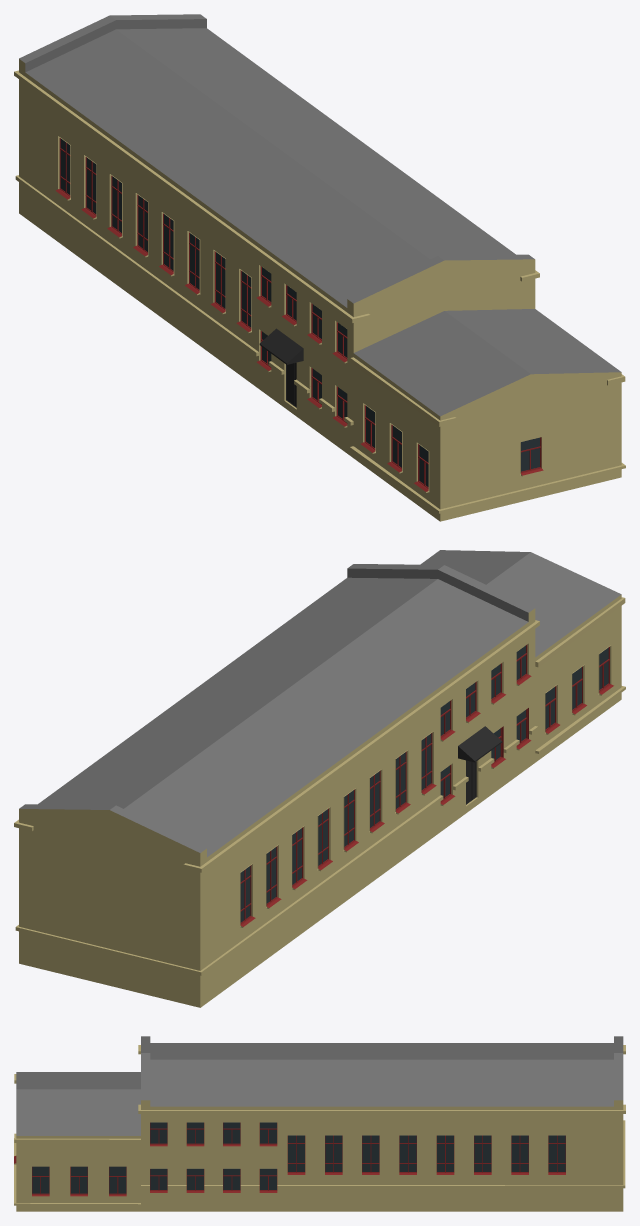
File: UFP.glb
3 renders of one model, top to bottom at view 1: azimuth 30°, elevation 25°; view 2: azimuth 150°, elevation 25°; view 3: azimuth 270°, elevation 25°, orthographic. The views are drawn at different scales.
Parts seen in each view (by area): view 1: УФП, УФП_Окно_2х3, УФП_Окно_2х3.002, УФП_Окно_2х3.001, Plane.009, УФП_Окно_2х3.006, УФП_Окно_2х3.008; view 2: УФП, УФП_Окно_2х3, УФП_Окно_2х3.001, УФП_Окно_2х3.002, Plane.009, УФП_Окно_2х3.006; view 3: УФП, УФП_Окно_2х3.003, УФП_Окно_2х3.004, УФП_Окно_2х3.005.
Boxes of the visible parts, x1,y1,x2,y2 form: УФП: [14, 14, 625, 521]; УФП_Окно_2х3: [55, 136, 251, 332]; УФП_Окно_2х3.002: [360, 403, 429, 492]; УФП_Окно_2х3.001: [256, 266, 347, 363]; Plane.009: [259, 328, 303, 364]; УФП_Окно_2х3.006: [307, 368, 347, 427]; УФП_Окно_2х3.008: [520, 437, 543, 476]; УФП: [14, 550, 625, 1007]; УФП_Окно_2х3: [240, 731, 436, 927]; УФП_Окно_2х3.001: [440, 643, 531, 741]; УФП_Окно_2х3.002: [545, 645, 614, 734]; Plane.009: [458, 726, 502, 762]; УФП_Окно_2х3.006: [491, 708, 531, 768]; УФП: [14, 1036, 625, 1211]; УФП_Окно_2х3.003: [287, 1135, 565, 1175]; УФП_Окно_2х3.004: [150, 1122, 277, 1193]; УФП_Окно_2х3.005: [32, 1166, 126, 1197].
Bounding box in the file's own units: 2.26 × 1.87 × 8.21.
